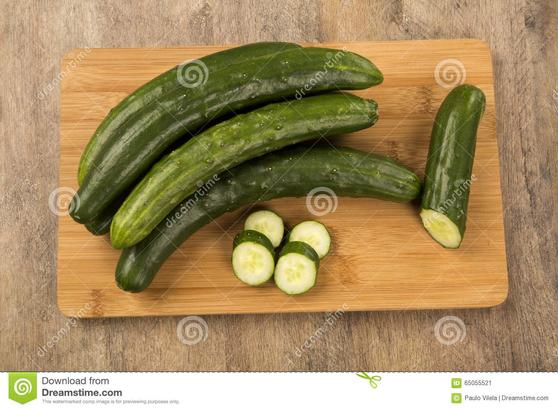cucumber: (97, 93, 397, 243)
